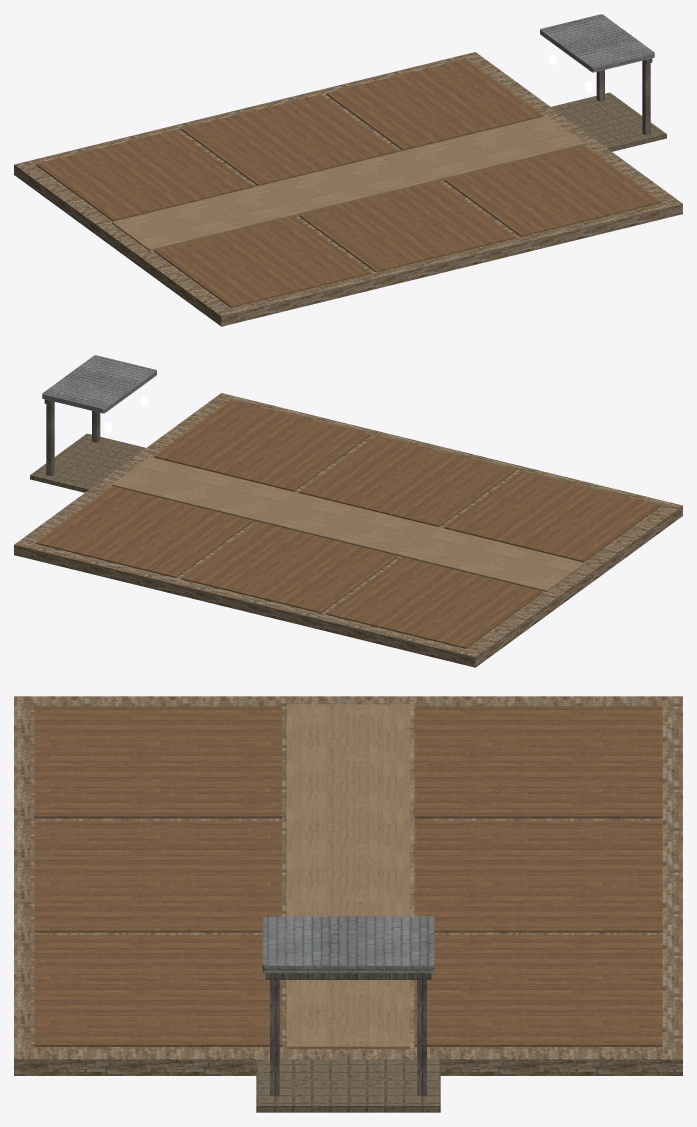
The picture shows the model from 3 angles, top to bottom: view 1: azimuth 30°, elevation 25°; view 2: azimuth 150°, elevation 25°; view 3: azimuth 270°, elevation 25°; orthographic projection. The views are drawn at different scales.
Visible parts, largest first — view 1: base; view 2: base; view 3: base.
Boxes of the visible parts, x1,y1,x2,y2 form: base: (14,14,682,326); base: (14,355,682,667); base: (14,696,682,1112).
Bounding box in the file's own units: 15.8 × 2.69 × 10.9.
7 materials, 6 textured.
